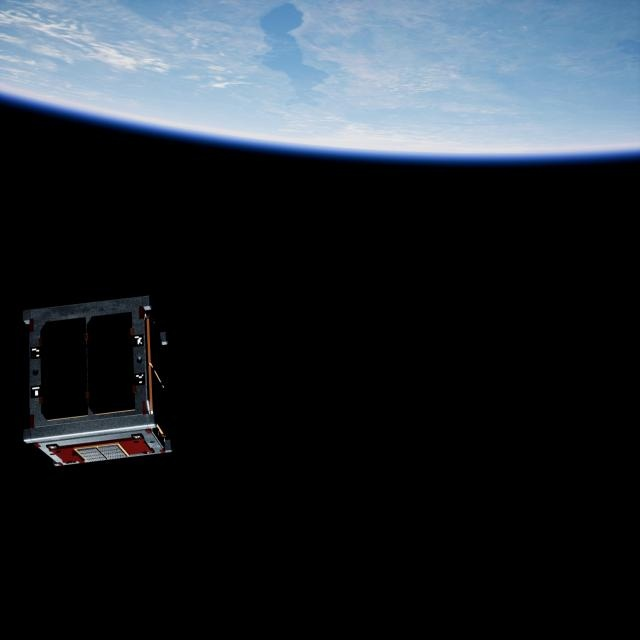satellite: (17, 290, 186, 465)
